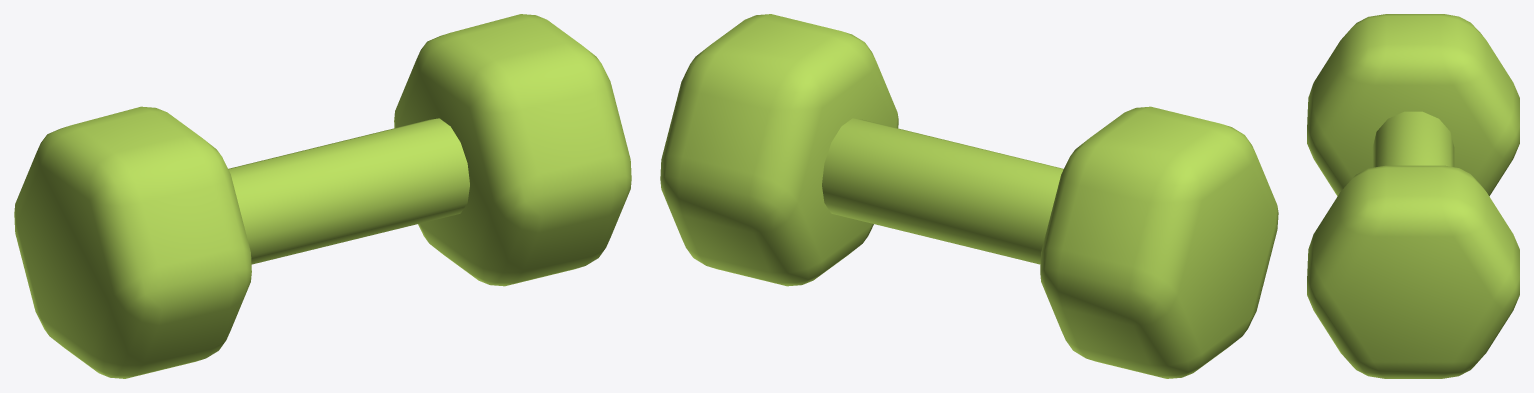
The model's file is halter_pequeno_lima.glb.
3 renders of one model, left to right at view 1: azimuth 30°, elevation 25°; view 2: azimuth 150°, elevation 25°; view 3: azimuth 270°, elevation 25°, orthographic. The views are drawn at different scales.
Parts seen in each view (by area): view 1: halter_pequeno_lima; view 2: halter_pequeno_lima; view 3: halter_pequeno_lima.
Boxes of the visible parts, x1=… form: halter_pequeno_lima: x1=14, y1=14, x2=631, y2=378; halter_pequeno_lima: x1=660, y1=14, x2=1278, y2=378; halter_pequeno_lima: x1=1307, y1=14, x2=1519, y2=378.
Size of the model in its own units: 0.19 by 0.0779 by 0.0831.
Materials: 1 (1 with a texture image).
